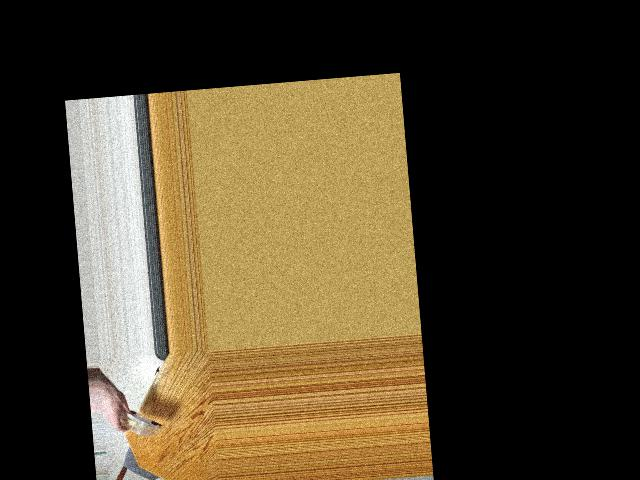cheese: (117, 408, 162, 439)
